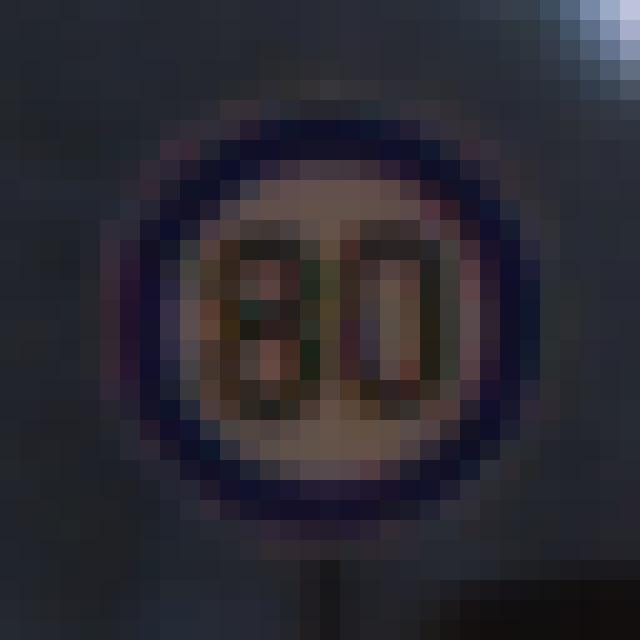SPEED-LIMIT-80: (121, 128, 538, 522)
